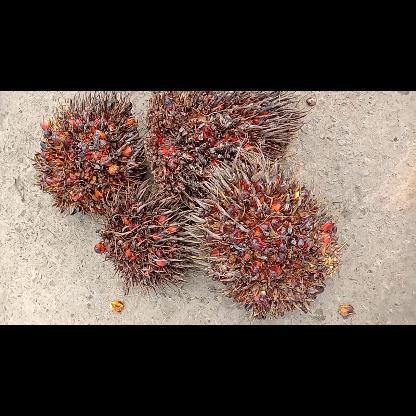Terlalu masak: (178, 152, 342, 324), (141, 91, 312, 209), (30, 90, 146, 222), (95, 174, 196, 298)
